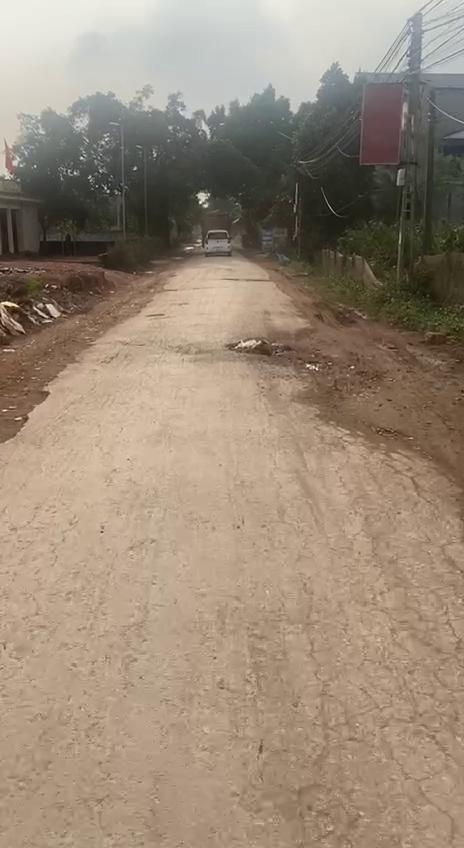pothole: (226, 334, 292, 365)
